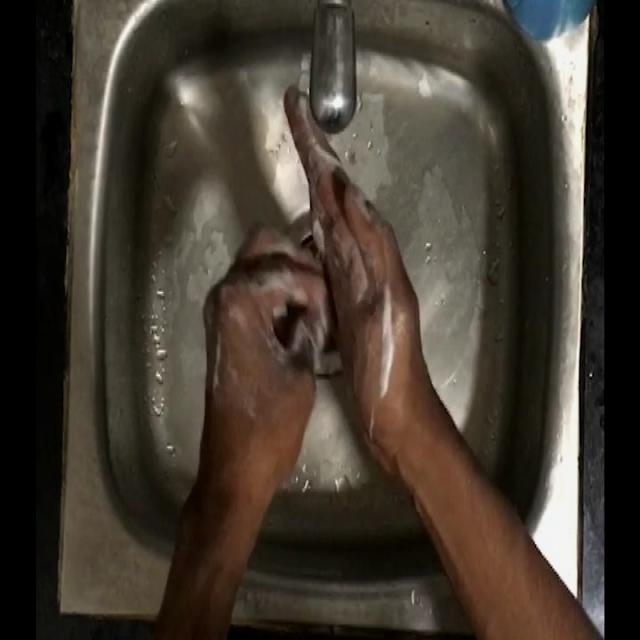step_6: (190, 75, 422, 478)
